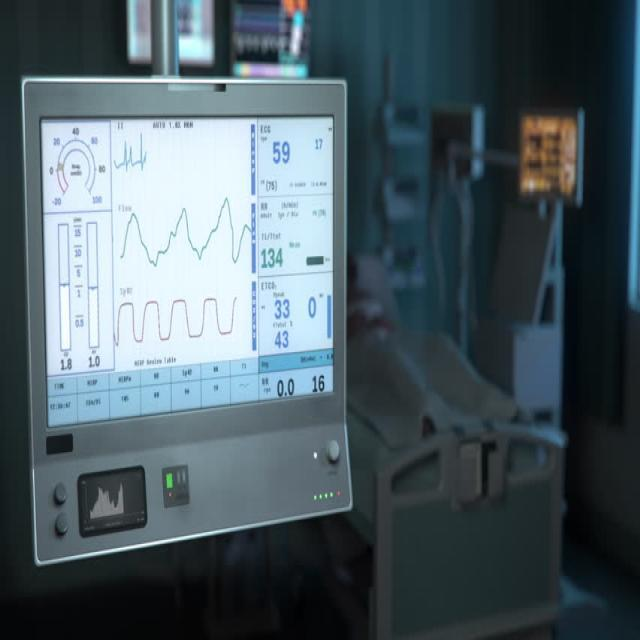Monitor: (21, 73, 353, 564)
